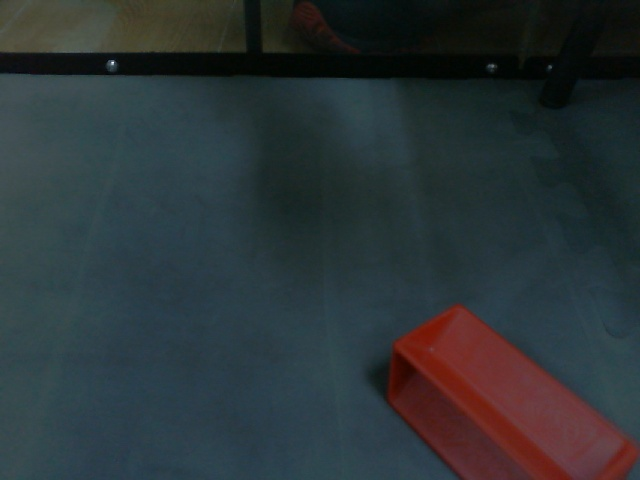RedSample: (383, 301, 639, 480)
